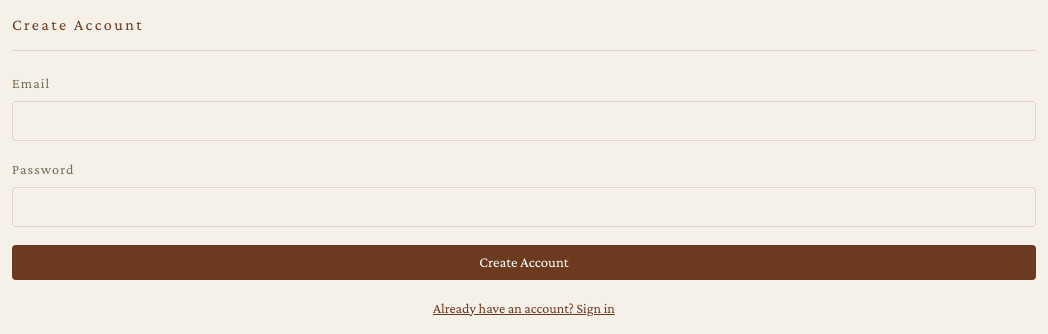
Test: RegisterForm › disables button while loading
Type "new@example.com" into the field at (524, 121), box left=12, top=101, right=1036, bottom=141
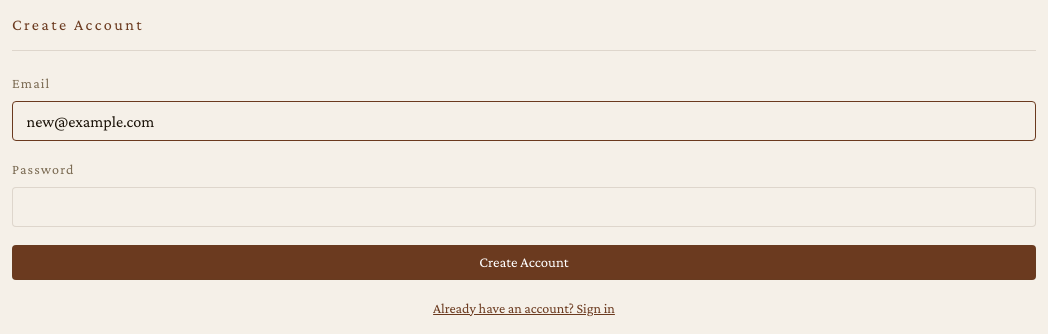
Type "password123" into the password field at (524, 207), box left=12, top=187, right=1036, bottom=228
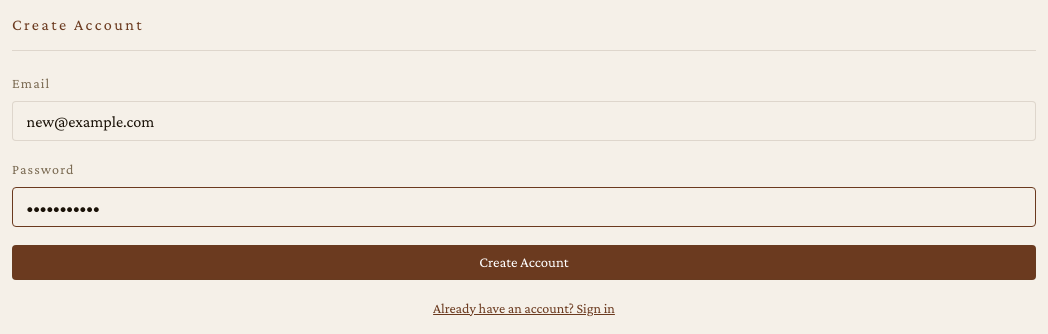
Click the button "Create Account" at (524, 263), box left=12, top=246, right=1036, bottom=280
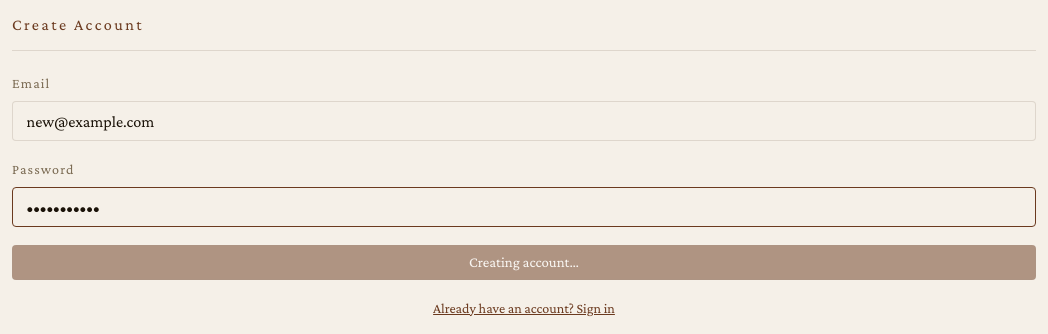
Now the button named "Create Account" is disabled, box left=12, top=246, right=1036, bottom=280
Now the button named "Create Account" reads "Creating account…", box left=12, top=246, right=1036, bottom=280
